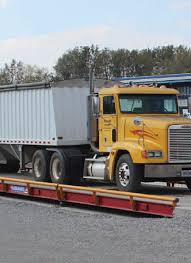Industrial Scale: (1, 177, 191, 225)
